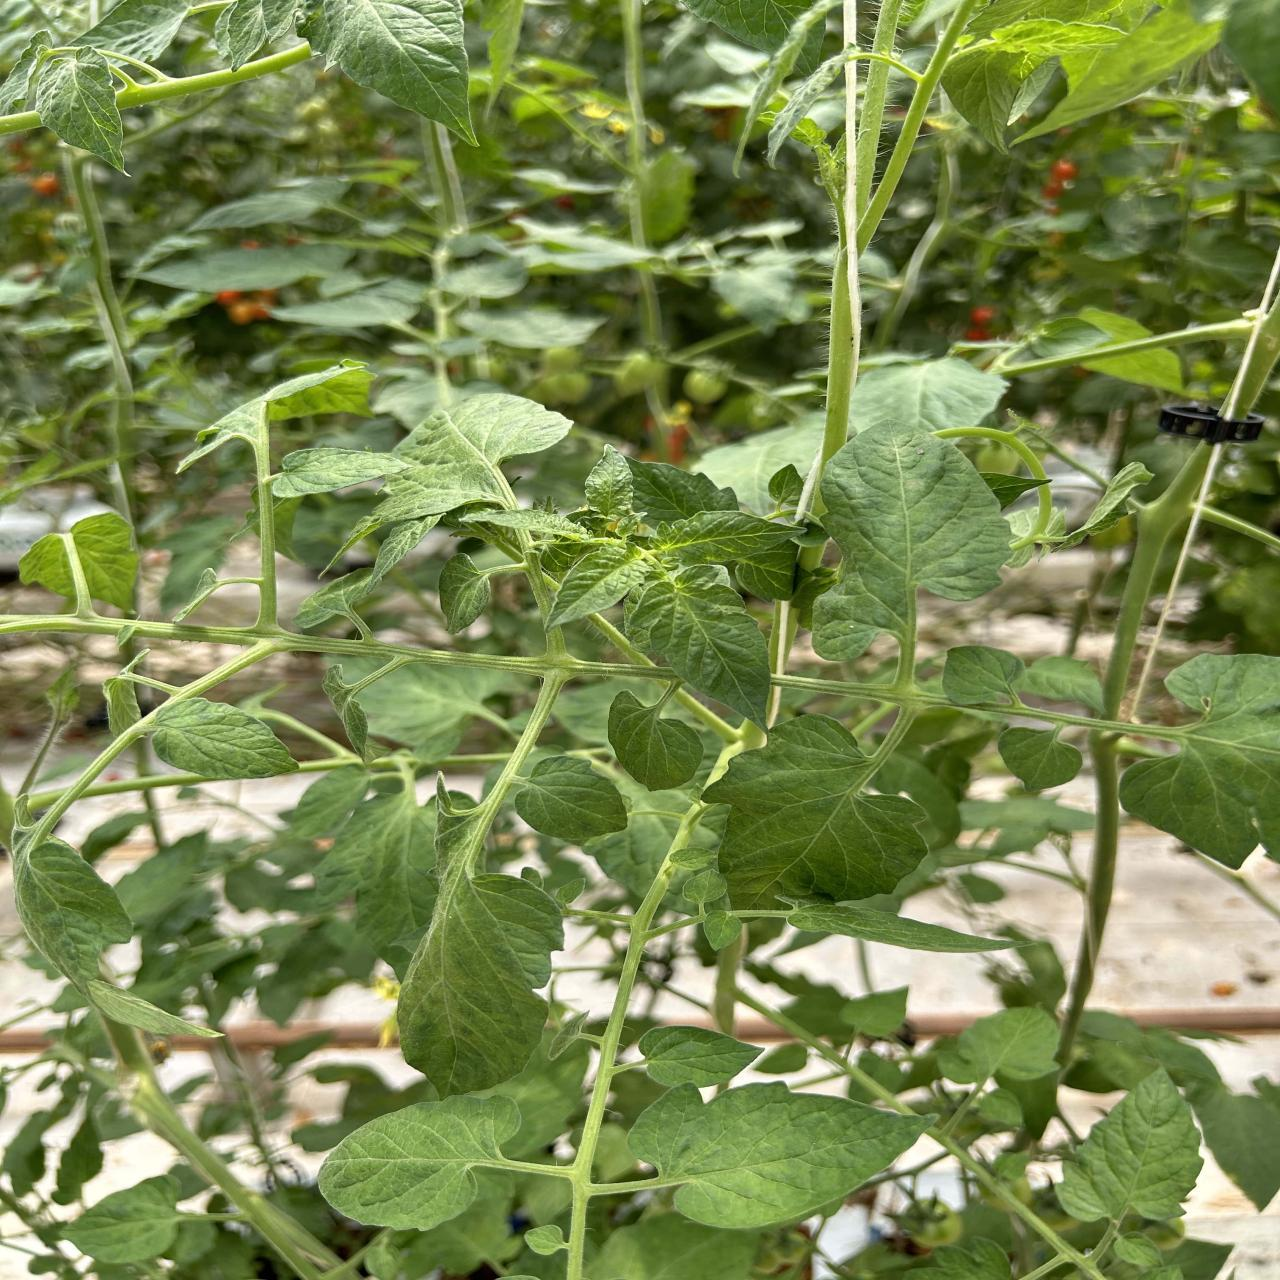Hoja: (812, 422, 1012, 680), (628, 1083, 932, 1228), (702, 716, 928, 910), (397, 873, 563, 1098), (1119, 655, 1280, 866), (319, 1090, 520, 1230), (375, 395, 571, 523), (301, 0, 475, 142), (626, 565, 769, 722), (1057, 1069, 1203, 1219), (13, 826, 134, 990), (651, 510, 799, 597), (151, 697, 298, 779), (540, 539, 662, 631), (35, 47, 123, 169), (938, 1007, 1058, 1084), (639, 1027, 762, 1087), (272, 448, 408, 501), (998, 727, 1082, 791), (941, 646, 1024, 706)
Pedunculo: (0, 537, 679, 697), (1102, 251, 1280, 721), (567, 802, 702, 1280), (181, 367, 340, 621), (857, 0, 978, 252), (802, 62, 860, 509), (771, 675, 1178, 738), (1058, 729, 1122, 1071), (857, 59, 888, 250), (874, 0, 901, 53)
